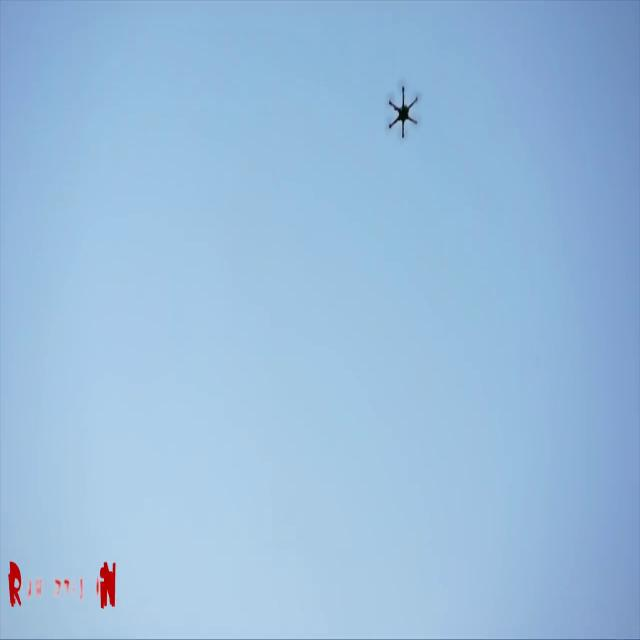drone: (379, 70, 425, 147)
